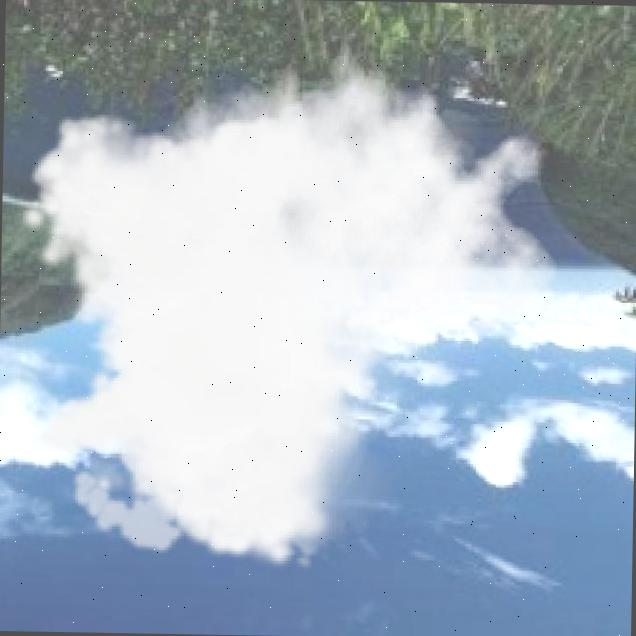smoke: (11, 19, 563, 573)
